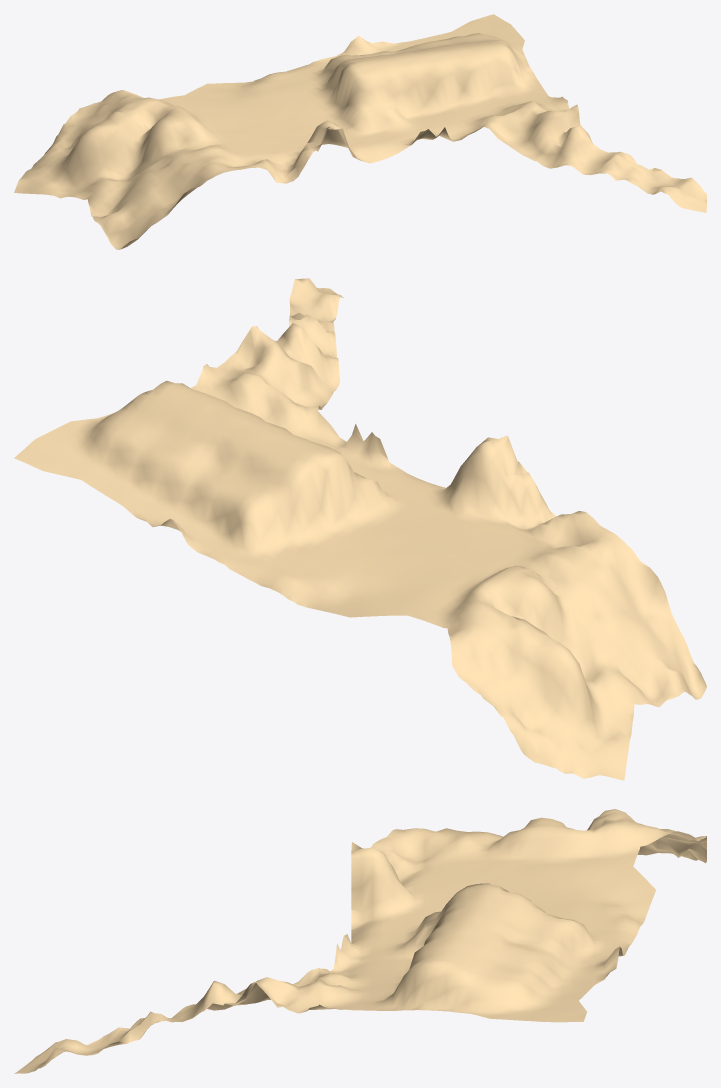
Rendered from Sealing.dae.
3 renders of one model, top to bottom at view 1: azimuth 30°, elevation 25°; view 2: azimuth 150°, elevation 25°; view 3: azimuth 270°, elevation 25°, orthographic. The views are drawn at different scales.
Parts seen in each view (by area): view 1: Sealing; view 2: Sealing; view 3: Sealing.
Part boxes in pixels (<box>): Sealing: <box>14,14,706,249</box>; Sealing: <box>14,278,706,780</box>; Sealing: <box>14,809,706,1073</box>.
Bounding box in the file's own units: 25.8 × 25.58 × 6.37.
